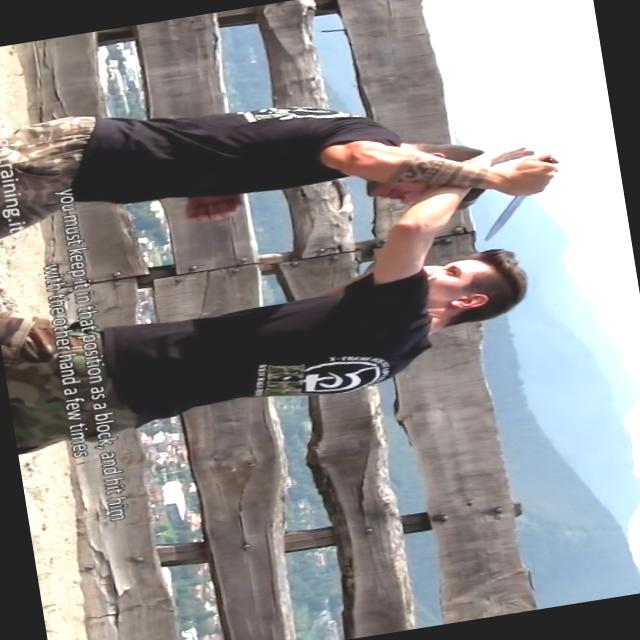knife: (469, 149, 578, 244)
